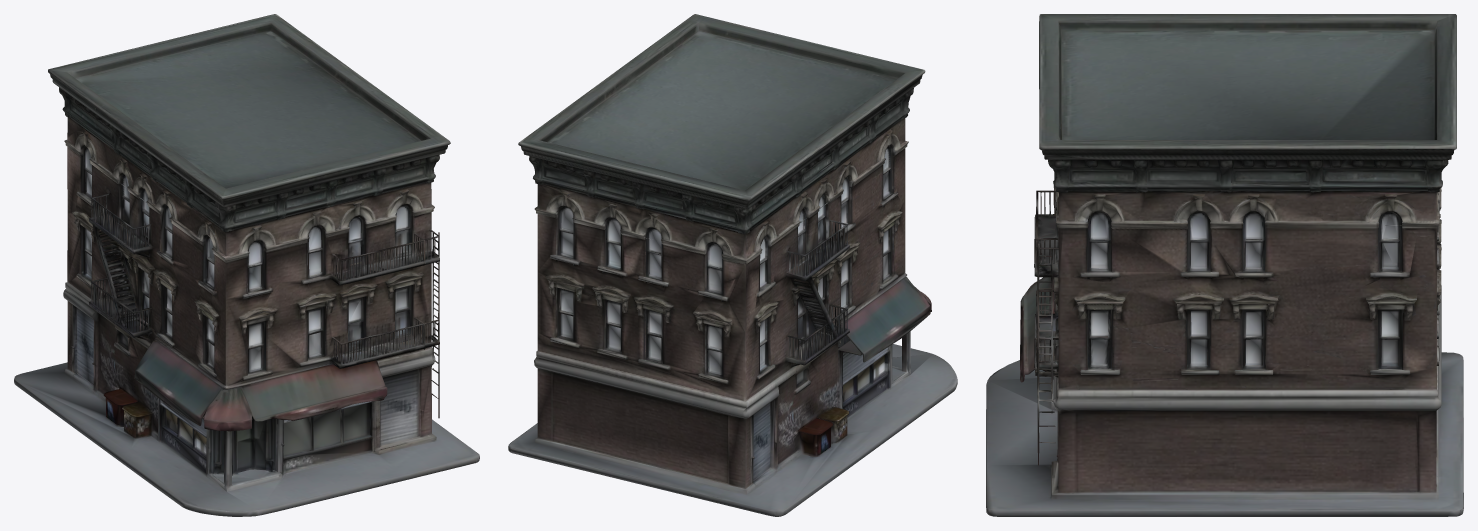
File: bushwick_3storey.glb
3 views of the same model, side by side, from view 1: azimuth 30°, elevation 25°; view 2: azimuth 150°, elevation 25°; view 3: azimuth 270°, elevation 25° (orthographic). The views are drawn at different scales.
Parts seen in each view (by area): view 1: node_0; view 2: node_0; view 3: node_0.
Boxes of the visible parts, bbox=[...] form: node_0: bbox=[14, 14, 479, 516]; node_0: bbox=[508, 14, 957, 516]; node_0: bbox=[986, 14, 1463, 516].
Size of the model in its own units: 0.6253 by 0.6713 by 0.7956.
Materials: 1 (1 with a texture image).
